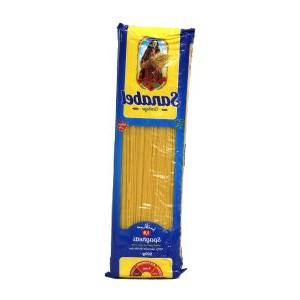Spaghetti: (116, 29, 182, 279)
